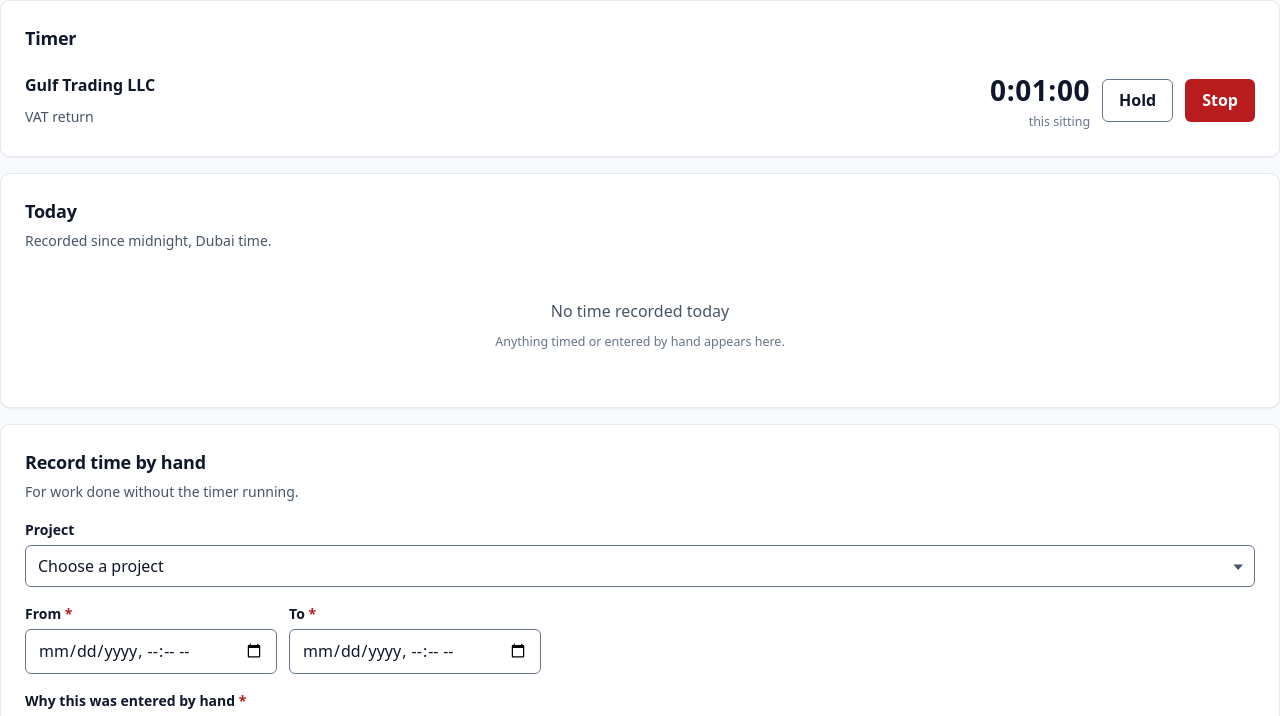
the timer screen › stops through the server and shows what the server returns
What coordinates should you click on to do the following:
click the button "Stop"
I would click on:
 (1220, 100)
Its box is x1=1185 y1=79 x2=1255 y2=122.
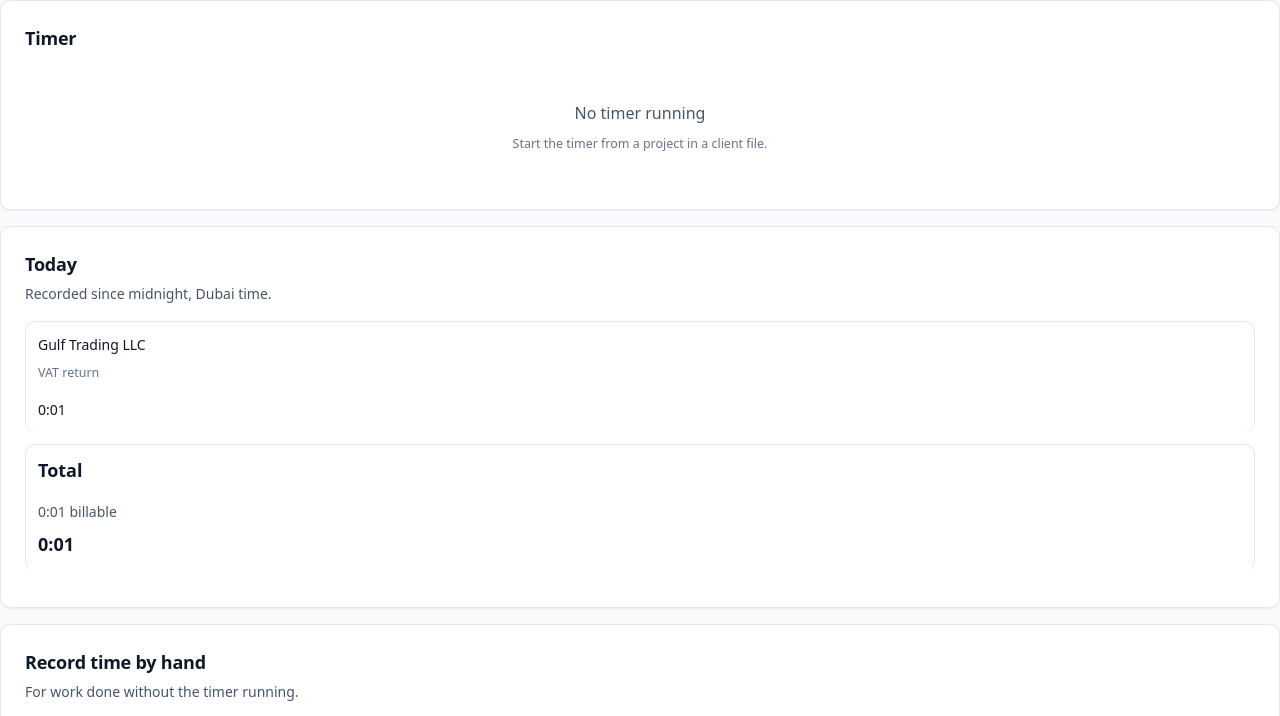
Expected: the text "No timer running" is shown, x1=575 y1=101 x2=705 y2=126
